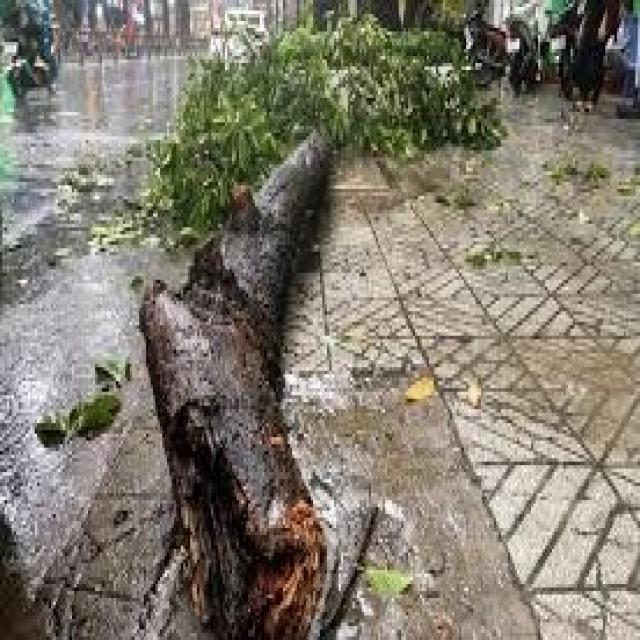fallen_object: (135, 0, 389, 630)
